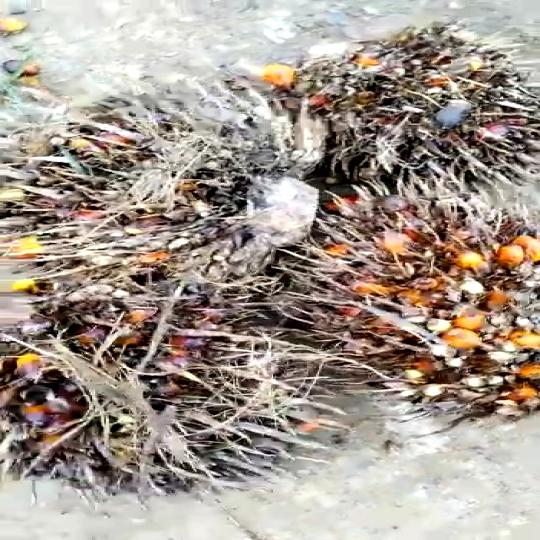terlalu masak: (0, 109, 330, 305), (0, 300, 347, 483), (277, 196, 540, 404), (263, 42, 540, 177)
